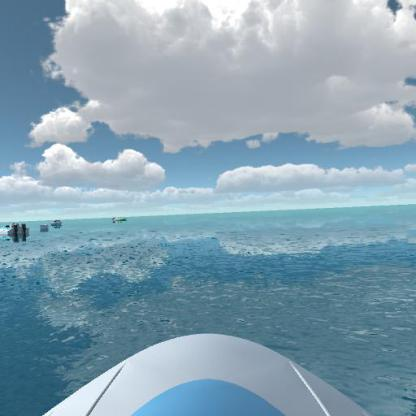usv0: (109, 211, 129, 226)
usv1: (0, 220, 32, 244), (49, 214, 64, 229)
